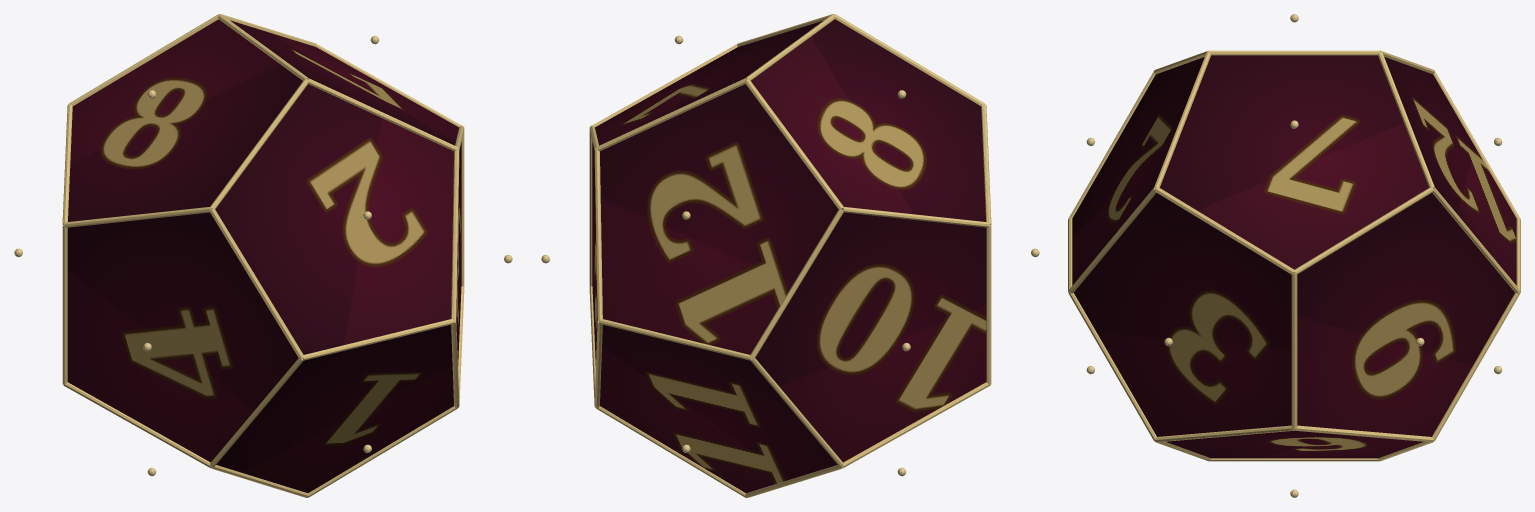
Rendered from ruby_d12.glb.
The picture shows the model from 3 angles, left to right: view 1: azimuth 30°, elevation 25°; view 2: azimuth 150°, elevation 25°; view 3: azimuth 270°, elevation 25°; orthographic projection. The views are drawn at different scales.
Parts seen in each view (by area): view 1: Ruby_D12_Faces, Gold_Edge_7, Gold_Edge_22, Gold_Edge_16, Gold_Edge_29, Gold_Edge_18, Gold_Edge_19, Gold_Edge_23, Gold_Edge_11, Gold_Edge_14, Gold_Edge_27, Gold_Edge_9 (+5 smaller); view 2: Ruby_D12_Faces, Gold_Edge_3, Gold_Edge_28, Gold_Edge_14, Gold_Edge_6, Gold_Edge_8, Gold_Edge_19, Gold_Edge_25, Gold_Edge_17, Gold_Edge_16, Gold_Edge_26, Gold_Edge_20 (+5 smaller); view 3: Ruby_D12_Faces, Gold_Edge_2, Gold_Edge_5, Gold_Edge_1, Gold_Edge_24, Gold_Edge_15, Gold_Edge_10, Gold_Edge_29, Gold_Edge_6, Gold_Edge_30, Gold_Edge_4, Gold_Edge_28 (+4 smaller).
Part boxes in pixels (x1,y1,x2,y2): Ruby_D12_Faces: [67, 19, 461, 492]; Gold_Edge_7: [210, 209, 303, 359]; Gold_Edge_22: [451, 149, 459, 321]; Gold_Edge_16: [210, 79, 308, 209]; Gold_Edge_29: [308, 78, 457, 151]; Gold_Edge_18: [302, 319, 454, 360]; Gold_Edge_19: [62, 225, 67, 384]; Gold_Edge_23: [64, 382, 210, 467]; Gold_Edge_11: [64, 207, 211, 227]; Gold_Edge_14: [69, 14, 218, 106]; Gold_Edge_27: [210, 358, 303, 467]; Gold_Edge_9: [308, 406, 457, 497]; Ruby_D12_Faces: [592, 19, 986, 492]; Gold_Edge_3: [750, 209, 843, 359]; Gold_Edge_28: [594, 149, 602, 321]; Gold_Edge_14: [745, 79, 843, 209]; Gold_Edge_6: [596, 78, 745, 151]; Gold_Edge_8: [599, 319, 751, 360]; Gold_Edge_19: [986, 225, 991, 384]; Gold_Edge_25: [843, 382, 989, 467]; Gold_Edge_17: [842, 207, 989, 227]; Gold_Edge_16: [835, 14, 984, 106]; Gold_Edge_26: [750, 358, 843, 467]; Gold_Edge_20: [596, 406, 745, 497]; Ruby_D12_Faces: [1072, 55, 1516, 458]; Gold_Edge_2: [1291, 273, 1297, 428]; Gold_Edge_5: [1155, 187, 1294, 274]; Gold_Edge_1: [1294, 187, 1433, 274]; Gold_Edge_24: [1209, 50, 1379, 55]; Gold_Edge_15: [1432, 293, 1520, 440]; Gold_Edge_10: [1068, 293, 1156, 440]; Gold_Edge_29: [1154, 51, 1210, 188]; Gold_Edge_6: [1378, 51, 1434, 188]; Gold_Edge_30: [1294, 425, 1434, 442]; Gold_Edge_4: [1154, 425, 1294, 442]; Gold_Edge_28: [1432, 188, 1520, 293].
Size of the model in its own units: 1.89 by 1.89 by 1.89.
Materials: 1 (1 with a texture image).
